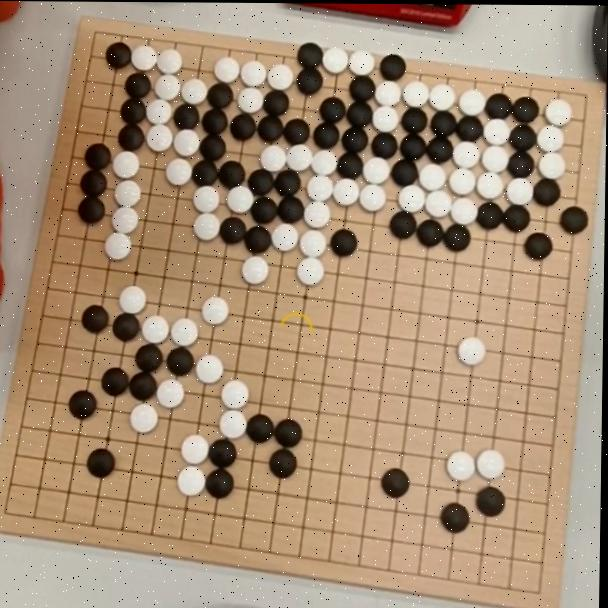corners: (524, 572, 557, 608), (74, 18, 116, 44), (575, 77, 603, 106), (0, 496, 26, 527)
